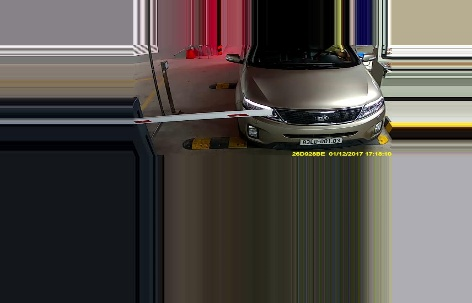plate: (297, 136, 345, 146)
